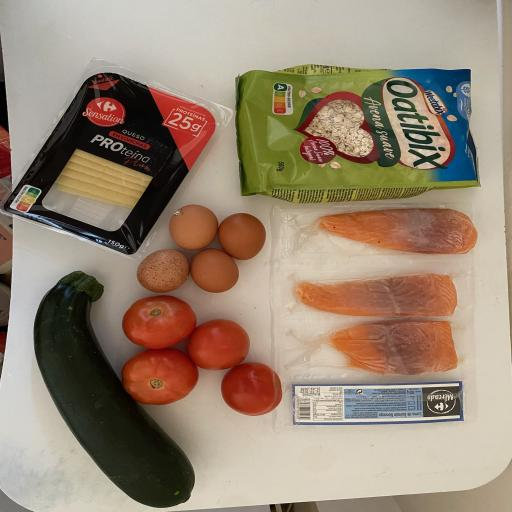cheese: (2, 66, 224, 257)
courgette: (31, 267, 201, 510)
egg: (184, 246, 245, 296), (132, 248, 193, 294), (216, 210, 268, 263), (165, 204, 220, 254)
oat: (232, 62, 485, 203)
salmon: (295, 270, 462, 322), (314, 206, 477, 257), (324, 316, 461, 376)
tomato: (118, 346, 201, 410), (120, 293, 199, 351), (218, 359, 286, 417), (185, 316, 253, 372)
